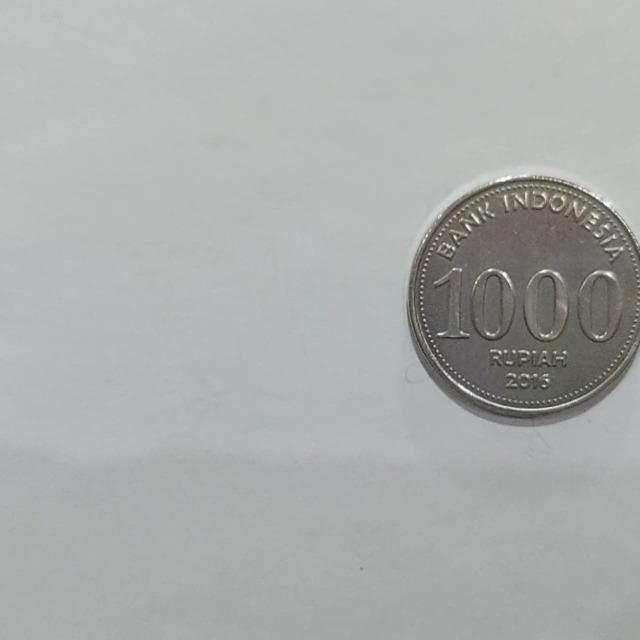Rp100: (404, 171, 640, 424)
